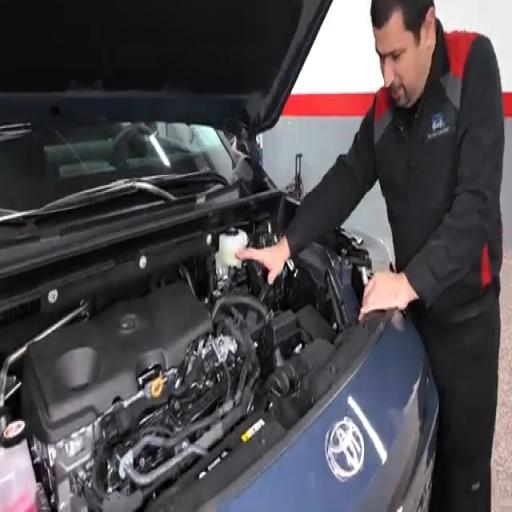bumper: (217, 313, 438, 511)
emblem: (325, 417, 364, 482)
hood: (0, 0, 331, 135)
windshield: (0, 123, 233, 213)
